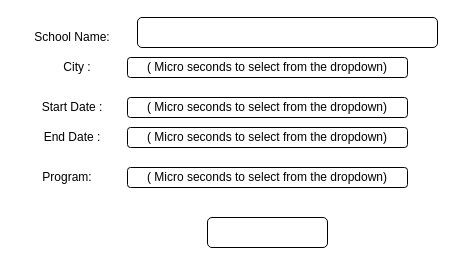
Some shapes in this 455 by 265 pixel diagram are drawn without their labels. Here are the shapes that lost their labels. From the top down, the centre of each, then its label:
the point at 287,32: ( Type your school name ,spelling as on your marksheet)
the point at 267,232: Submit
